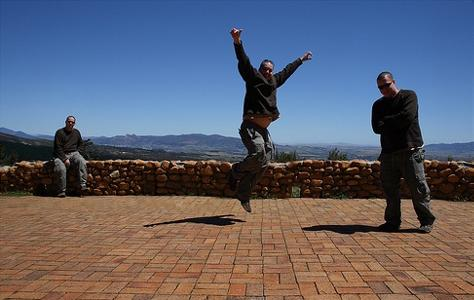person: (227, 27, 313, 214)
